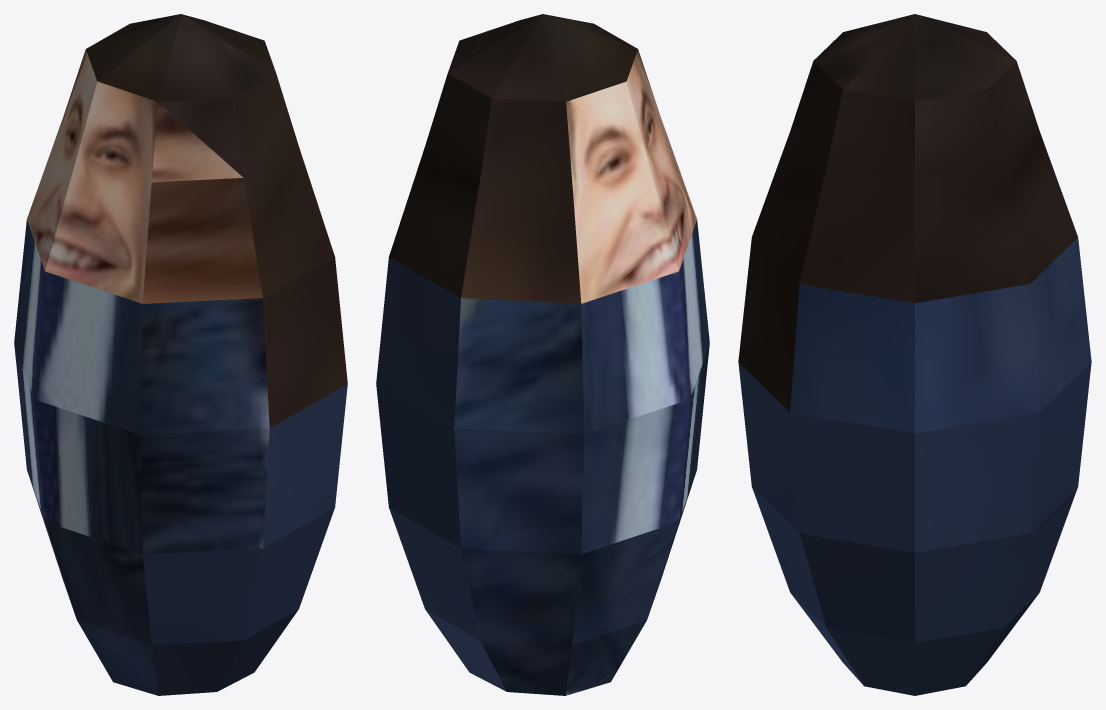
The model's file is cikica2.glb.
The picture shows the model from 3 angles, left to right: view 1: azimuth 30°, elevation 25°; view 2: azimuth 150°, elevation 25°; view 3: azimuth 270°, elevation 25°; orthographic projection.
Visible parts, largest first — view 1: Sphere.004; view 2: Sphere.004; view 3: Sphere.004.
Boxes of the visible parts, x1=… form: Sphere.004: x1=14, y1=14, x2=347, y2=695; Sphere.004: x1=376, y1=14, x2=709, y2=695; Sphere.004: x1=738, y1=14, x2=1091, y2=695.
Size of the model in its own units: 0.9421 by 2.07 by 0.9824.
3 materials, 3 textured.
